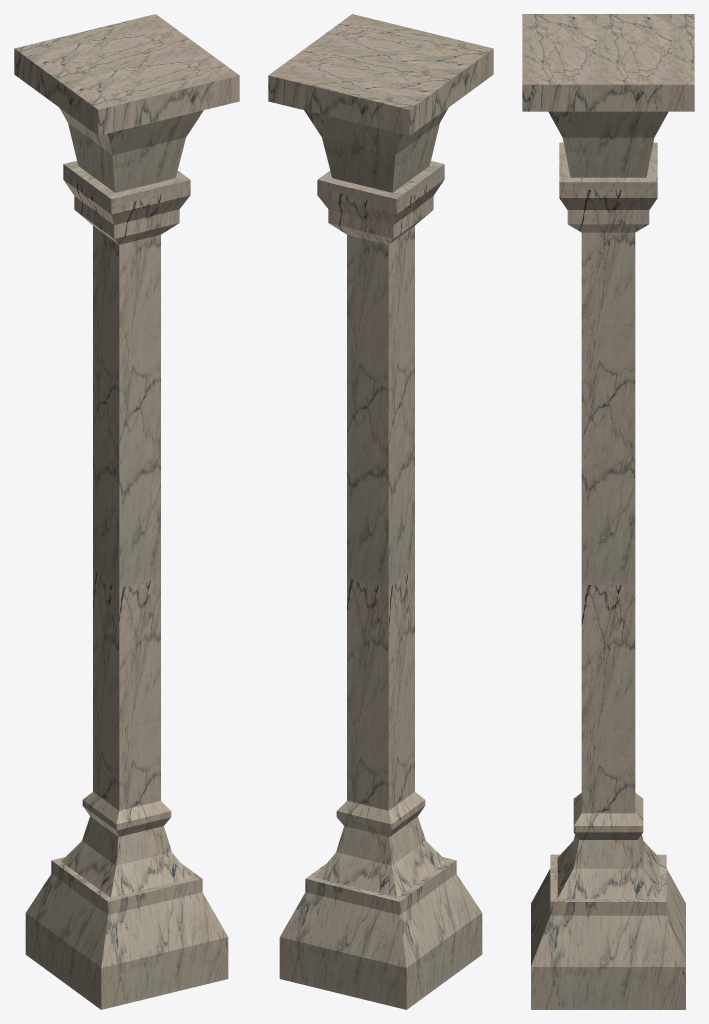
Rendered from pillar.FBX.
3 renders of one model, left to right at view 1: azimuth 30°, elevation 25°; view 2: azimuth 150°, elevation 25°; view 3: azimuth 270°, elevation 25°, orthographic. The views are drawn at different scales.
Visible parts, largest first — view 1: Box001; view 2: Box001; view 3: Box001.
Boxes of the visible parts, x1,y1,x2,y2 form: Box001: (14,14,239,1009); Box001: (268,14,493,1009); Box001: (522,14,694,1009).
Size of the model in its own units: 59.14 by 362 by 60.74.
Materials: 1 (1 with a texture image).
